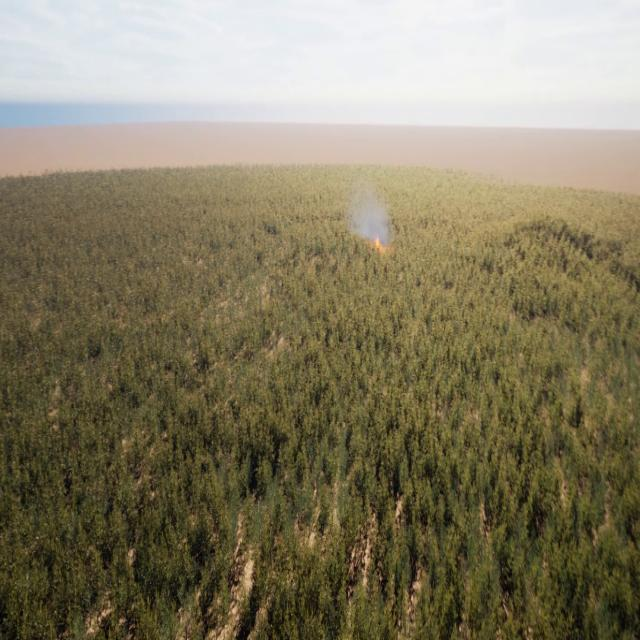fire: (373, 231, 388, 251)
smoke: (348, 183, 395, 248)
